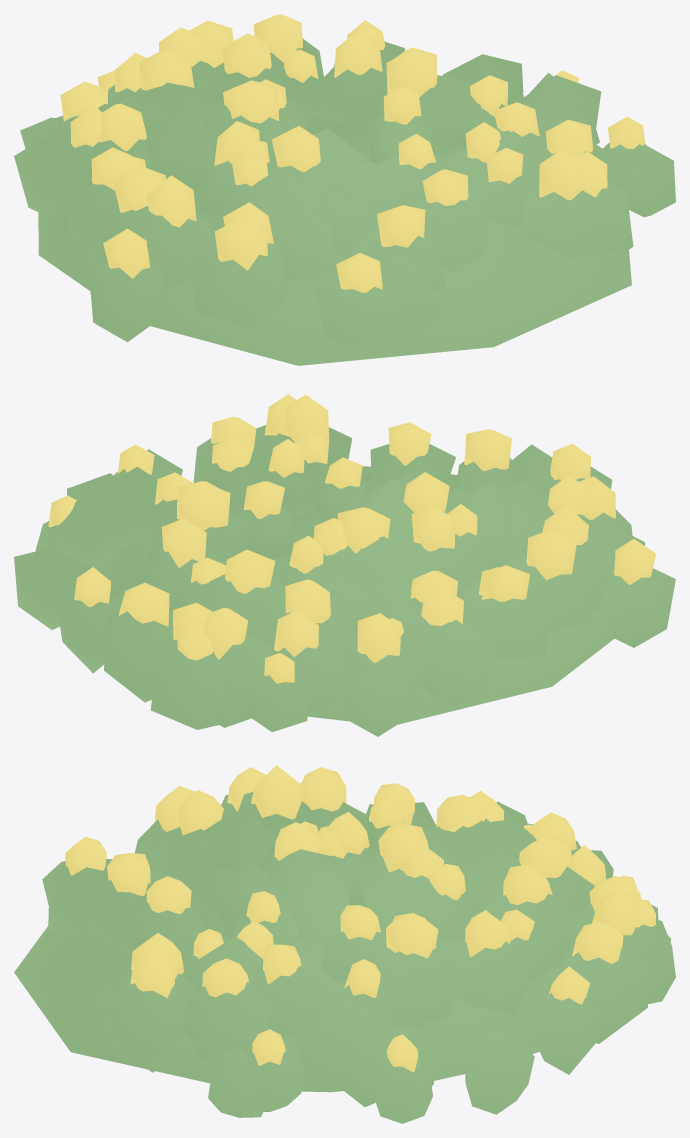
File: Blender_Heather_3.glb
3 renders of one model, top to bottom at view 1: azimuth 30°, elevation 25°; view 2: azimuth 150°, elevation 25°; view 3: azimuth 270°, elevation 25°, orthographic. The views are drawn at different scales.
Visible parts, largest first — view 1: Blender_Heather_3; view 2: Blender_Heather_3; view 3: Blender_Heather_3.
Boxes of the visible parts, x1=… form: Blender_Heather_3: x1=14, y1=14, x2=675, y2=365; Blender_Heather_3: x1=14, y1=394, x2=675, y2=736; Blender_Heather_3: x1=14, y1=765, x2=675, y2=1123.
Size of the model in its own units: 2.09 by 0.5631 by 2.12.
